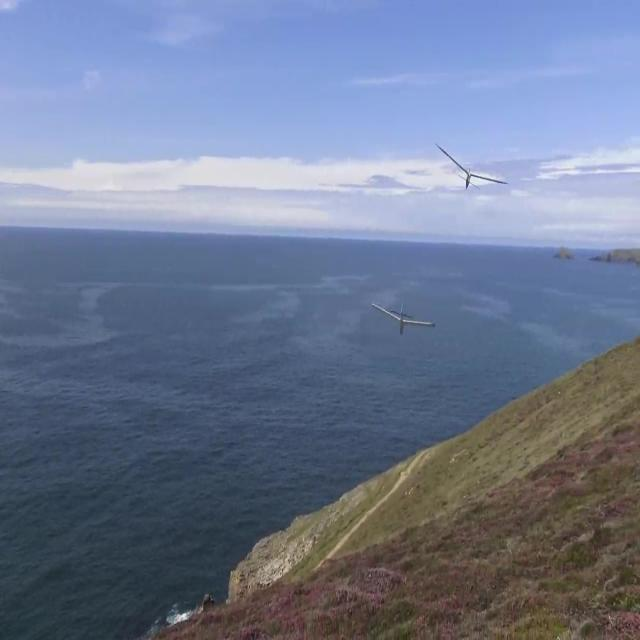iha: (468, 141, 474, 192)
